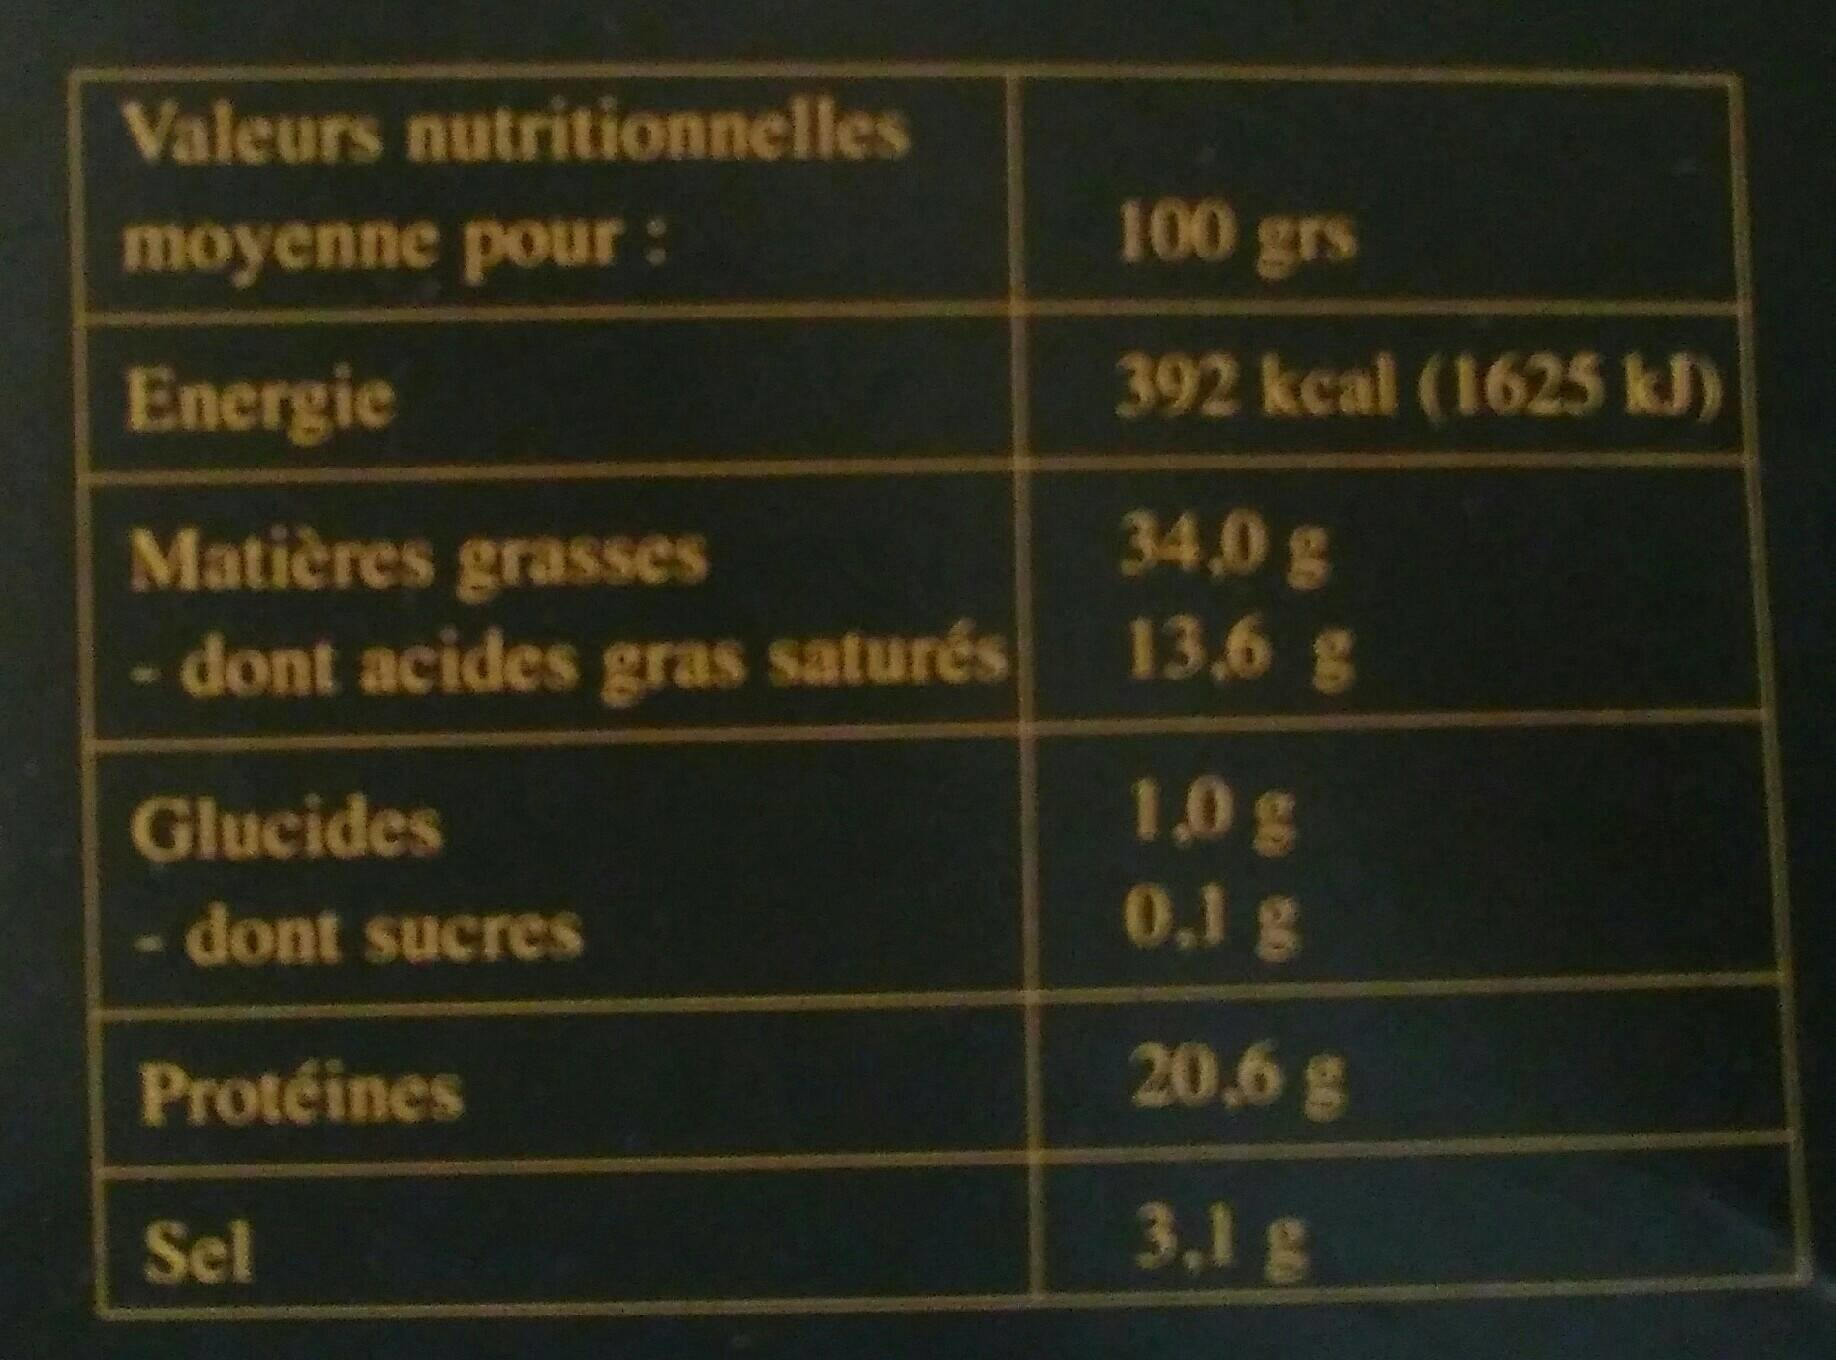column: (109, 91, 1006, 1291), (1107, 97, 1725, 1281)
table: (66, 60, 1812, 1316)
